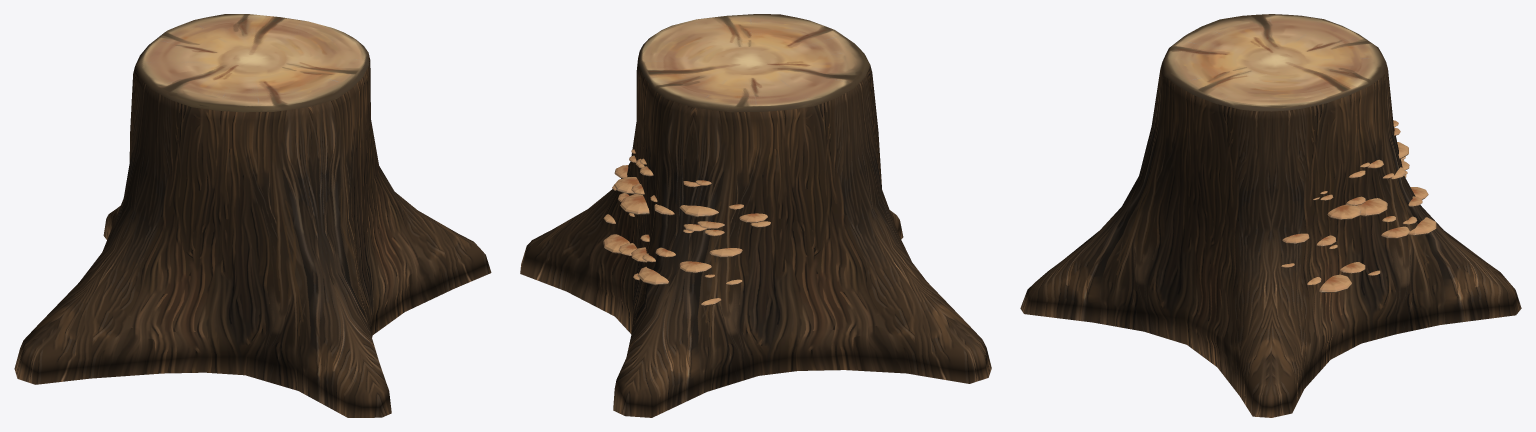
Rendered from Tutorial_TreeStump.fbx.
The picture shows the model from 3 angles, left to right: view 1: azimuth 30°, elevation 25°; view 2: azimuth 150°, elevation 25°; view 3: azimuth 270°, elevation 25°; orthographic projection. The views are drawn at different scales.
Visible parts, largest first — view 1: Tutorial_TreeStump; view 2: Tutorial_TreeStump, Tutorial_TreeStump_Shrooms; view 3: Tutorial_TreeStump, Tutorial_TreeStump_Shrooms.
Part boxes in pixels (x1=…): Tutorial_TreeStump: x1=14, y1=14, x2=491, y2=417; Tutorial_TreeStump: x1=520, y1=14, x2=991, y2=417; Tutorial_TreeStump_Shrooms: x1=603, y1=149, x2=770, y2=305; Tutorial_TreeStump: x1=1020, y1=14, x2=1521, y2=417; Tutorial_TreeStump_Shrooms: x1=1281, y1=120, x2=1436, y2=292.
Size of the model in its own units: 2.24 by 1.19 by 2.17.
Materials: 1 (1 with a texture image).
